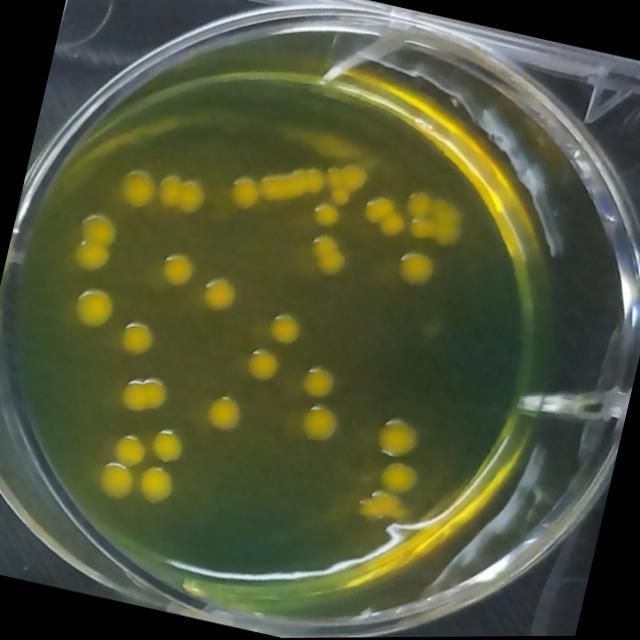vibrio: (254, 153, 327, 215), (112, 365, 179, 425), (298, 227, 356, 288), (368, 409, 423, 466), (199, 388, 252, 441), (68, 282, 120, 336), (294, 399, 345, 453), (390, 245, 440, 293), (112, 164, 162, 212), (239, 341, 286, 388), (294, 360, 340, 408), (91, 458, 137, 506), (196, 270, 242, 318), (376, 456, 424, 501), (68, 234, 117, 278), (115, 316, 160, 363), (134, 464, 178, 509), (75, 208, 122, 249), (146, 424, 189, 468), (264, 307, 307, 350), (155, 249, 198, 292), (224, 170, 264, 216), (108, 429, 150, 468), (173, 176, 210, 219), (153, 167, 186, 213), (358, 193, 396, 229), (336, 160, 370, 196), (401, 187, 435, 222), (376, 209, 408, 242), (310, 201, 342, 232)
